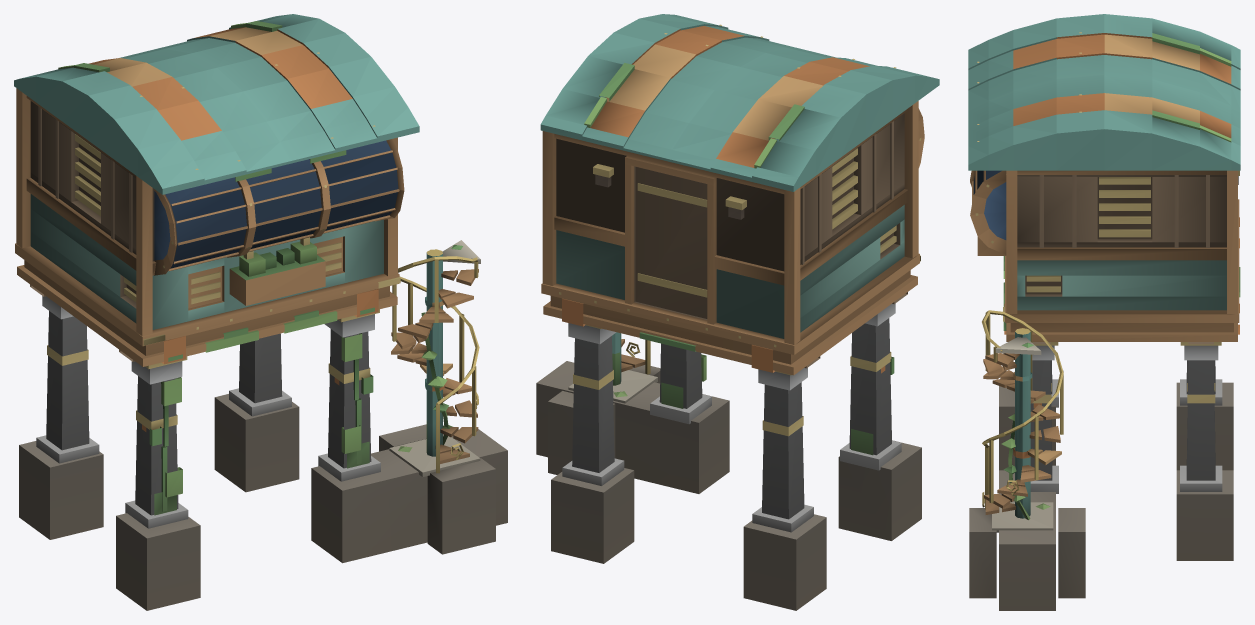
Rendered from loft.glb.
3 views of the same model, side by side, from view 1: azimuth 30°, elevation 25°; view 2: azimuth 150°, elevation 25°; view 3: azimuth 270°, elevation 25° (orthographic). The views are drawn at different scales.
Visible parts, largest first — view 1: loft; view 2: loft; view 3: loft.
Boxes of the visible parts, x1=… form: loft: x1=14, y1=14, x2=507, y2=610; loft: x1=536, y1=14, x2=939, y2=610; loft: x1=968, y1=14, x2=1240, y2=610.
Bounding box in the file's own units: 6.48 × 8.1 × 4.6.
